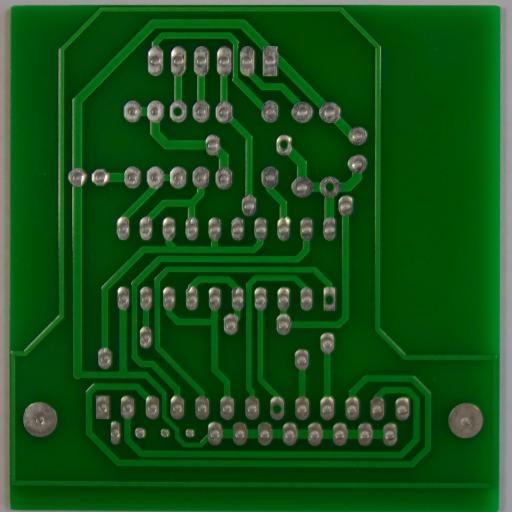missing_hole: (320, 176, 339, 196), (322, 288, 338, 310), (268, 398, 286, 417), (170, 100, 186, 120), (275, 136, 293, 153)
